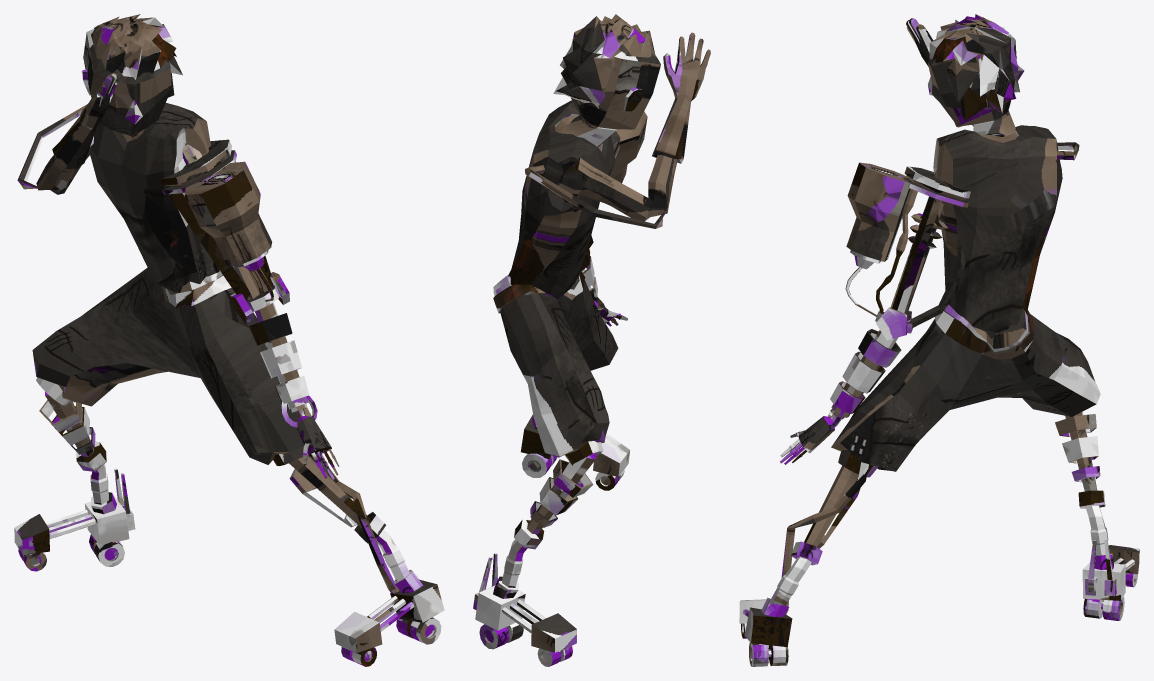
File: CyborgFINALAnimation_000019.obj
The picture shows the model from 3 angles, left to right: view 1: azimuth 30°, elevation 25°; view 2: azimuth 150°, elevation 25°; view 3: azimuth 270°, elevation 25°; orthographic projection. The views are drawn at different scales.
Parts seen in each view (by area): view 1: CyborgMesh_Cube.002; view 2: CyborgMesh_Cube.002; view 3: CyborgMesh_Cube.002.
Part boxes in pixels (x1=…): CyborgMesh_Cube.002: x1=14, y1=14, x2=444, y2=666; CyborgMesh_Cube.002: x1=473, y1=14, x2=710, y2=666; CyborgMesh_Cube.002: x1=739, y1=14, x2=1139, y2=666.
Bounding box in the file's own units: 4.15 × 8.66 × 5.45.
